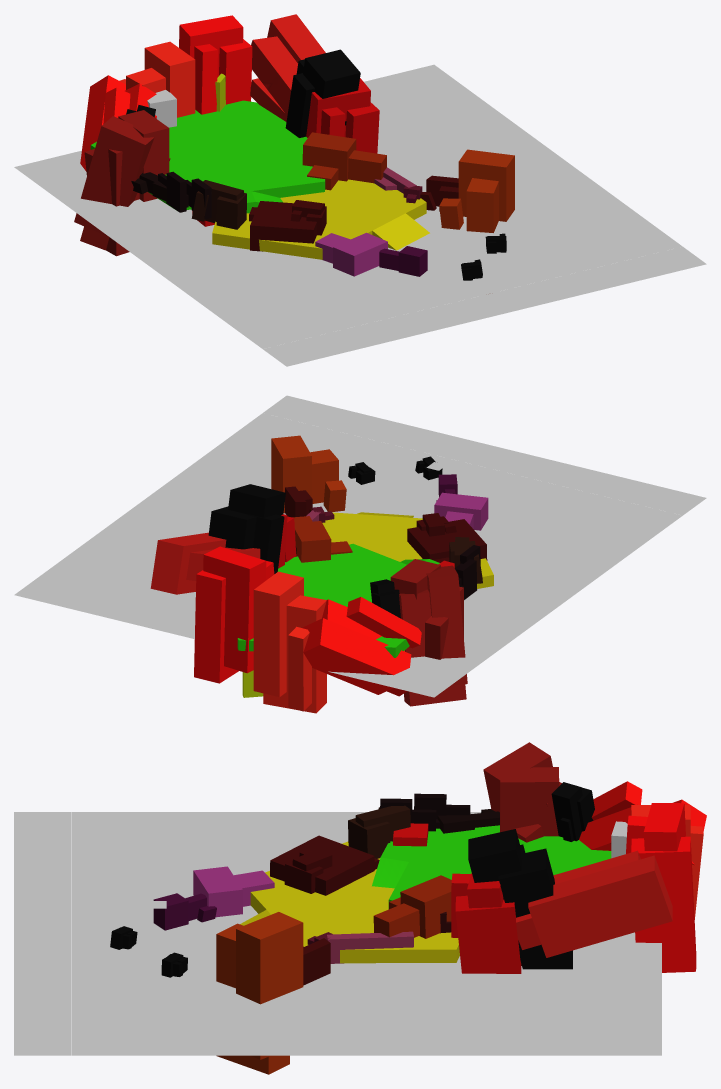
Rendered from Ground.obj.
The picture shows the model from 3 angles, top to bottom: view 1: azimuth 30°, elevation 25°; view 2: azimuth 150°, elevation 25°; view 3: azimuth 270°, elevation 25°; orthographic projection. The views are drawn at different scales.
Parts seen in each view (by area): view 1: 岩_立方体.019, 円柱, 円柱.001_円柱.002, 立方体.002, 立方体.003_立方体.001; view 2: 岩_立方体.019, 円柱, 立方体.002, 円柱.001_円柱.002, 立方体.001_立方体.005; view 3: 岩_立方体.019, 円柱.001_円柱.002, 円柱, 立方体.002, 立方体.001_立方体.005, 立方体, 立方体.003_立方体.001.
Boxes of the visible parts, x1=… form: 岩_立方体.019: x1=74, y1=14, x2=514, y2=280; 円柱: x1=90, y1=100, x2=325, y2=213; 円柱.001_円柱.002: x1=212, y1=179, x2=429, y2=259; 立方体.002: x1=285, y1=49, x2=360, y2=137; 立方体.003_立方体.001: x1=147, y1=90, x2=176, y2=127; 岩_立方体.019: x1=150, y1=435, x2=488, y2=713; 円柱: x1=237, y1=543, x2=439, y2=657; 立方体.002: x1=208, y1=484, x2=285, y2=573; 円柱.001_円柱.002: x1=322, y1=512, x2=493, y2=588; 立方体.001_立方体.005: x1=370, y1=579, x2=400, y2=618; 岩_立方体.019: x1=110, y1=742, x2=706, y2=1074; 円柱.001_円柱.002: x1=240, y1=841, x2=459, y2=963; 円柱: x1=372, y1=825, x2=611, y2=908; 立方体.002: x1=468, y1=829, x2=572, y2=969; 立方体.001_立方体.005: x1=551, y1=782, x2=594, y2=841; 立方体: x1=393, y1=823, x2=428, y2=846; 立方体.003_立方体.001: x1=611, y1=821, x2=627, y2=858.
Bounding box in the file's own units: 652 × 238 × 784.
